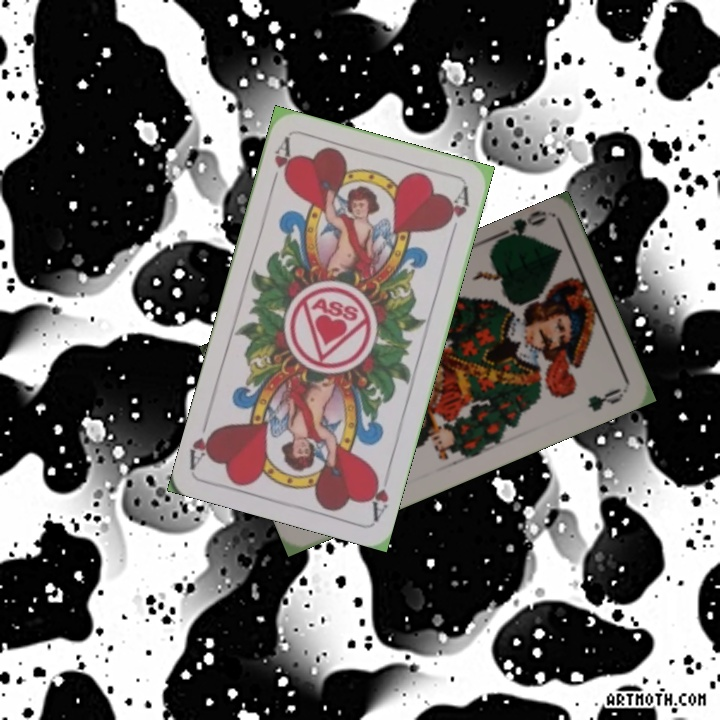GO: (493, 208, 549, 243)
HA: (266, 134, 296, 192), (364, 466, 391, 522)
